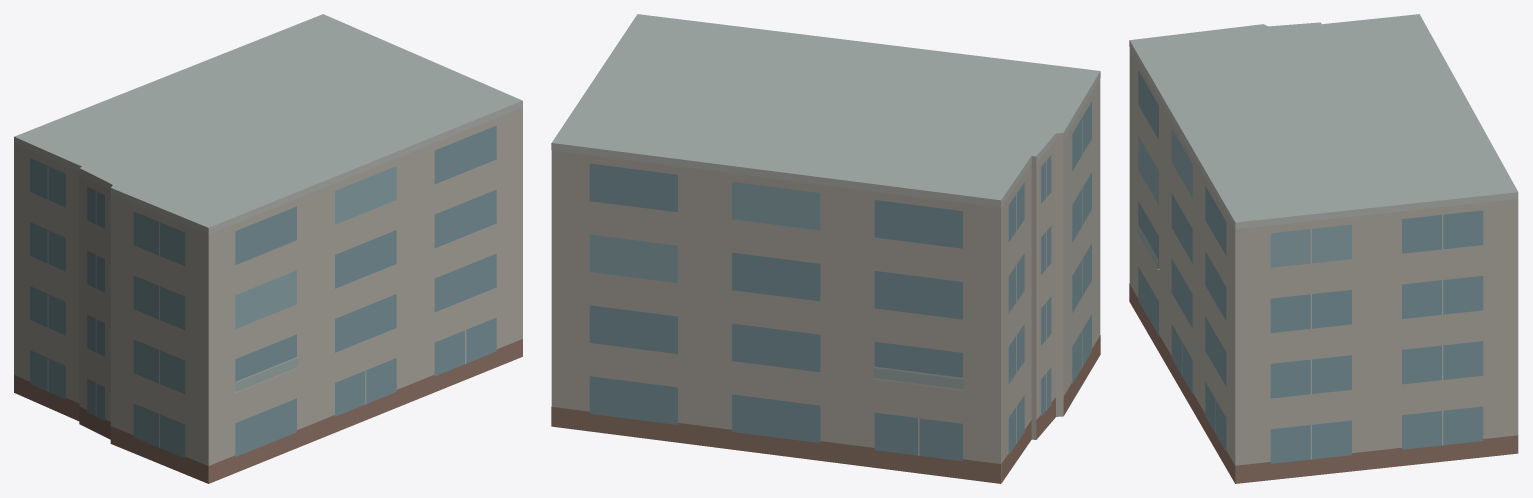
The model's file is survey-upis-32688371.glb.
3 views of the same model, side by side, from view 1: azimuth 30°, elevation 25°; view 2: azimuth 150°, elevation 25°; view 3: azimuth 270°, elevation 25° (orthographic). The views are drawn at different scales.
Parts seen in each view (by area): view 1: survey-upis-32688371.tmp; view 2: survey-upis-32688371.tmp; view 3: survey-upis-32688371.tmp.
Part boxes in pixels (bbox=[...]): survey-upis-32688371.tmp: bbox=[14, 14, 522, 483]; survey-upis-32688371.tmp: bbox=[551, 14, 1100, 483]; survey-upis-32688371.tmp: bbox=[1129, 14, 1518, 483].
Bounding box in the file's own units: 16.26 × 9.5 × 12.82.
